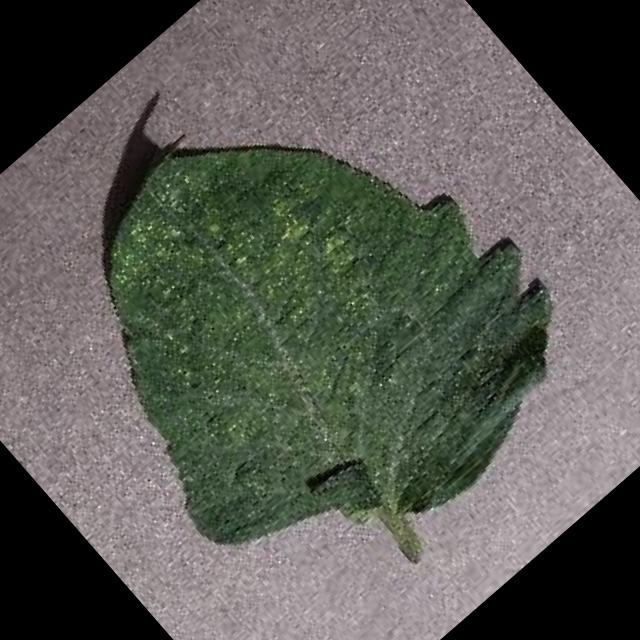Tomato spider mites leaf: (0, 16, 618, 640)
